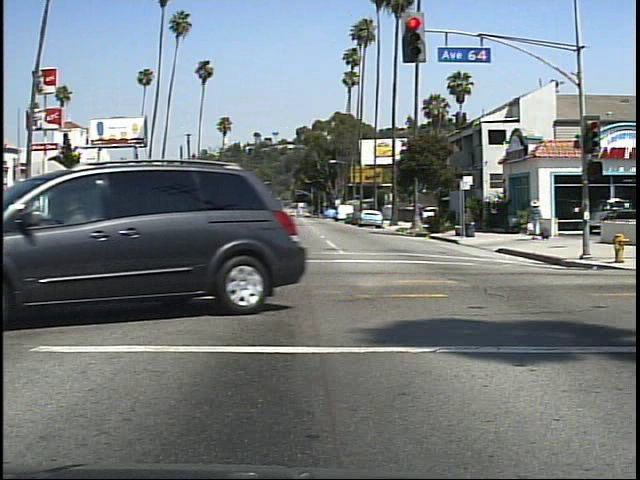person: (526, 195, 549, 248)
